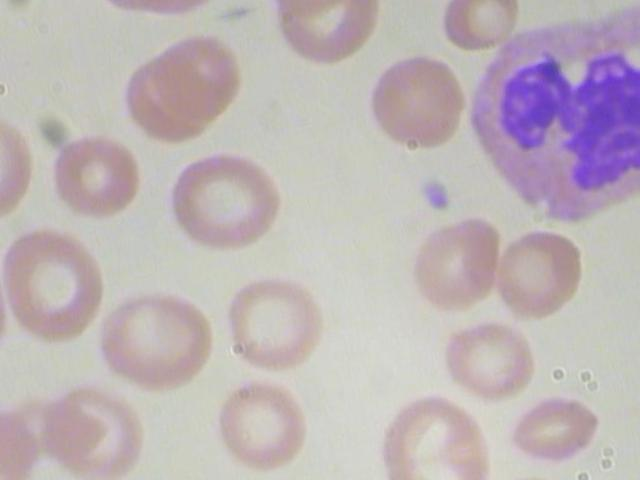Platelets: (136, 19, 259, 133)
RBC: (83, 282, 226, 409), (345, 38, 477, 162), (164, 138, 295, 262), (208, 263, 339, 387), (194, 361, 326, 480), (397, 208, 518, 328), (475, 211, 596, 331), (427, 300, 551, 414), (35, 119, 159, 233), (430, 0, 528, 64), (111, 0, 235, 30), (70, 0, 193, 29), (0, 400, 44, 480), (0, 238, 18, 381)
WBC: (0, 214, 121, 357)
